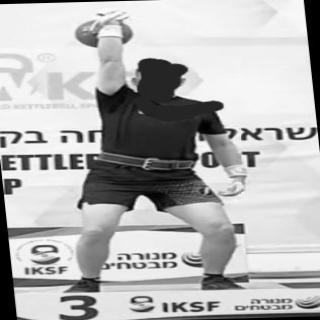kettlebell: (71, 9, 140, 49)
